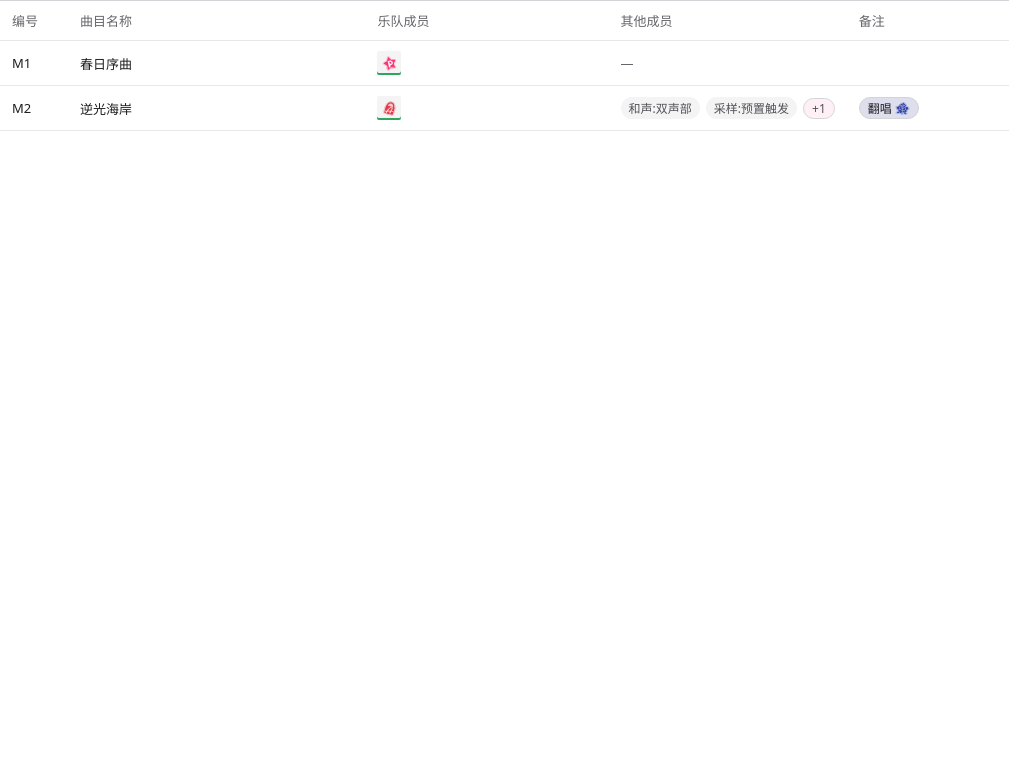
MemberStatusTable › 其他成员 +N 按钮可打开浮层，点击外部可关闭
Click the button "+1" at (819, 108), box [803,98,835,118]
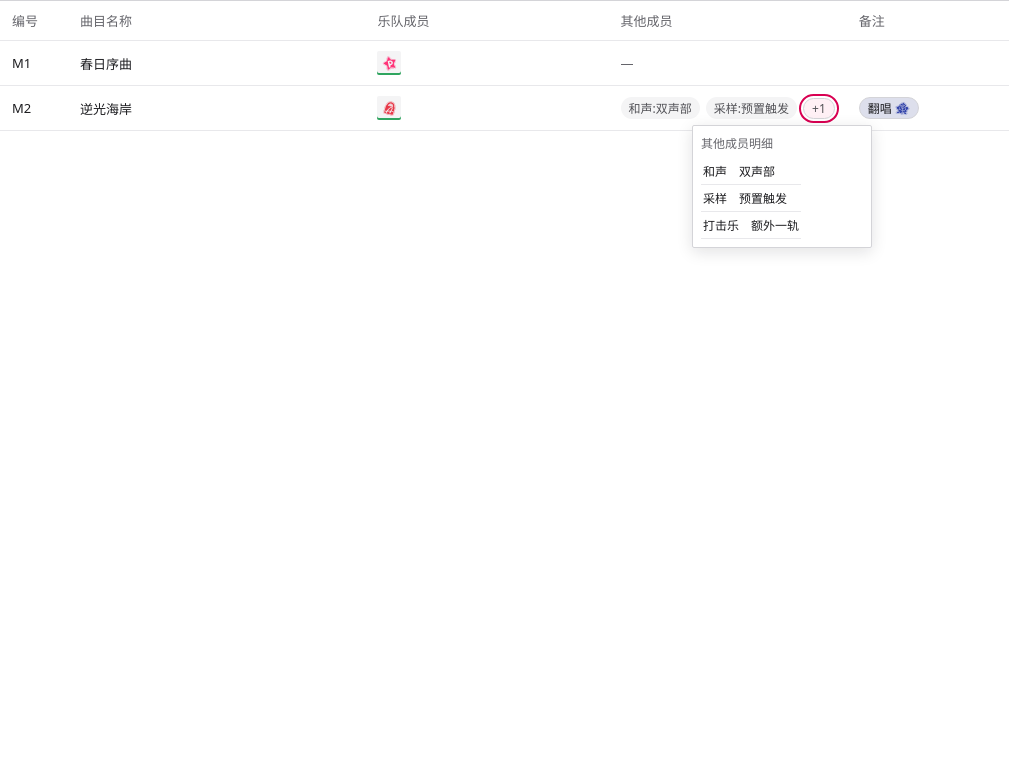
Expected: the text "其他成员明细" is shown, [701,134,773,152]
Press the mouse on the element that starts with "曲目名称" at (504, 384), box [0,0,1009,767]
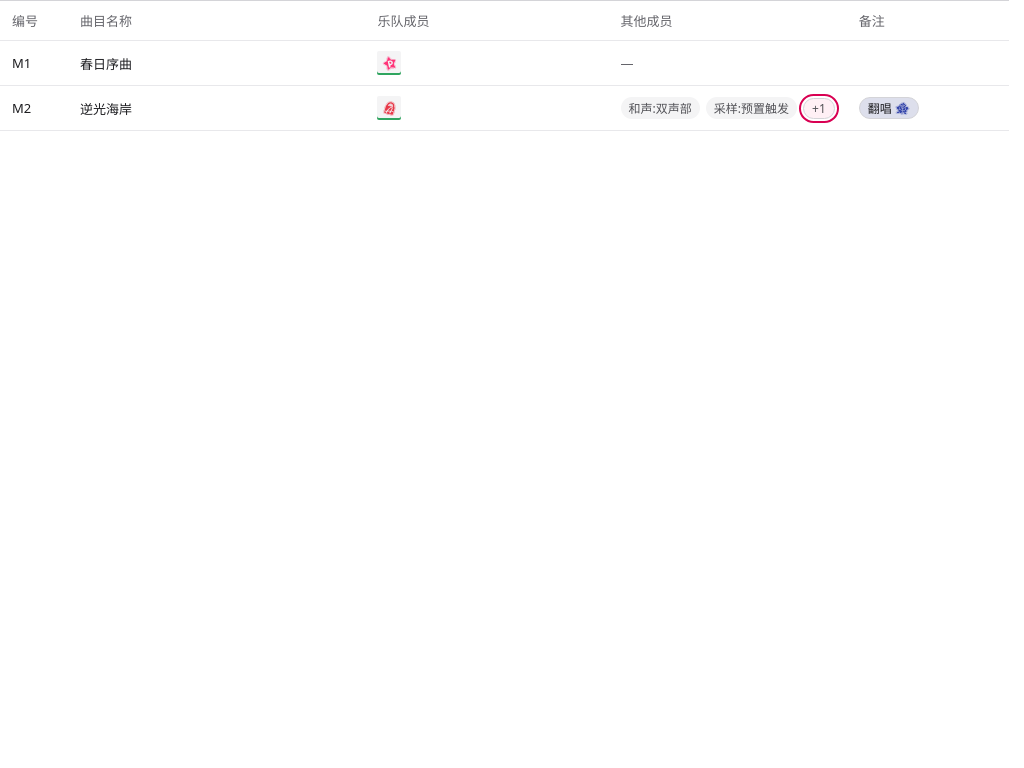
Expected: the text "其他成员明细" is gone
